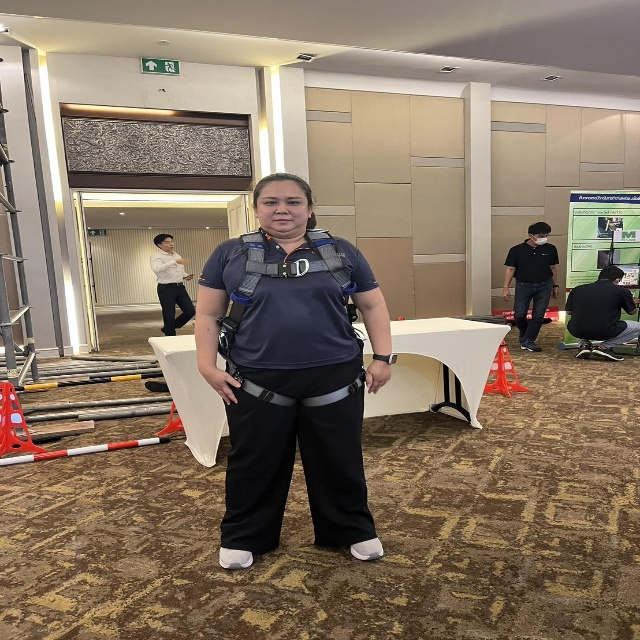Arnes_seguridad: (219, 226, 363, 409)
